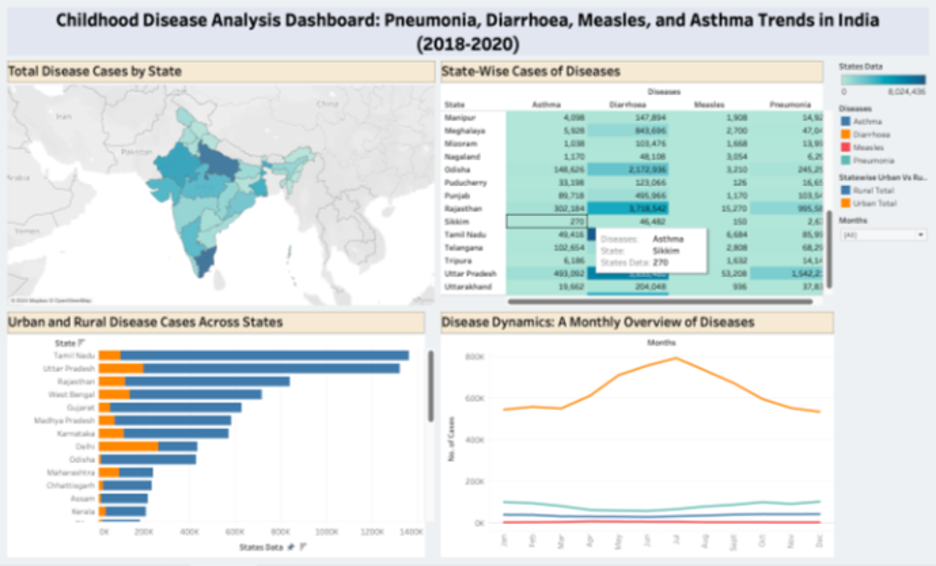

Layout of this report page (visuals, bound fields, positions):
{"tool":"tableau","page":{"name":"Dashboard 1","canvas":[1000,1000],"units":"permille","ordinal":0},"visuals":[{"type":"title","box":[6.4,11.5,987.2,117.8]},{"type":"worksheet","title":"Map","mark":"Multipolygon","box":[6.4,129.3,461.4,429.5]},{"type":"worksheet","title":"Statewise","mark":"Automatic","rows":["State"],"cols":["Parameters"],"box":[467.8,129.3,408.6,429.5]},{"type":"legend","title":"Statewise","param":"[federated.1h6z0tt1k9yqye149m8we1tdvtph].[sum:Calculation_768708215268884483:qk]","box":[876.4,129.3,117.2,93.4]},{"type":"legend","title":"Month Trend","param":"[federated.1h6z0tt1k9yqye149m8we1tdvtph].[none:Parameters:nk]","box":[876.4,222.7,117.2,152.3]},{"type":"legend","title":"Urban vs Rural","param":"[federated.1h6z0tt1k9yqye149m8we1tdvtph].[none:Months Names:nk]","box":[876.4,375,117.2,94.8]},{"type":"filter","title":"Statewise","param":"[federated.1h6z0tt1k9yqye149m8we1tdvtph].[none:Months Names:nk]","box":[876.4,469.8,117.2,96.3]},{"type":"worksheet","title":"Urban vs Rural","mark":"Automatic","rows":["State"],"cols":["Calculation_768708215268884483"],"box":[6.4,558.8,461.4,429.7]},{"type":"worksheet","title":"Month Trend","mark":"Line","rows":["Calculation_768708215261982722"],"cols":["Months Names"],"box":[467.8,558.8,408.6,429.7]}]}

Visuals, with their boxes on the dashboard's canvas, which has no fixed pixel size, in thousandths of its width and height (x1, y1, x2, y2). These are canvas units, not pixel positions in the 936x566 screenshot, which may show the page scaled, cropped or inside an application window:
title: x1=6, y1=12, x2=994, y2=129
"Map" worksheet (Multipolygon marks): x1=6, y1=129, x2=468, y2=559
"Statewise" worksheet: x1=468, y1=129, x2=876, y2=559
"Statewise" legend: x1=876, y1=129, x2=994, y2=223
"Month Trend" legend: x1=876, y1=223, x2=994, y2=375
"Urban vs Rural" legend: x1=876, y1=375, x2=994, y2=470
"Statewise" filter: x1=876, y1=470, x2=994, y2=566
"Urban vs Rural" worksheet: x1=6, y1=559, x2=468, y2=988
"Month Trend" worksheet (Line marks): x1=468, y1=559, x2=876, y2=988
